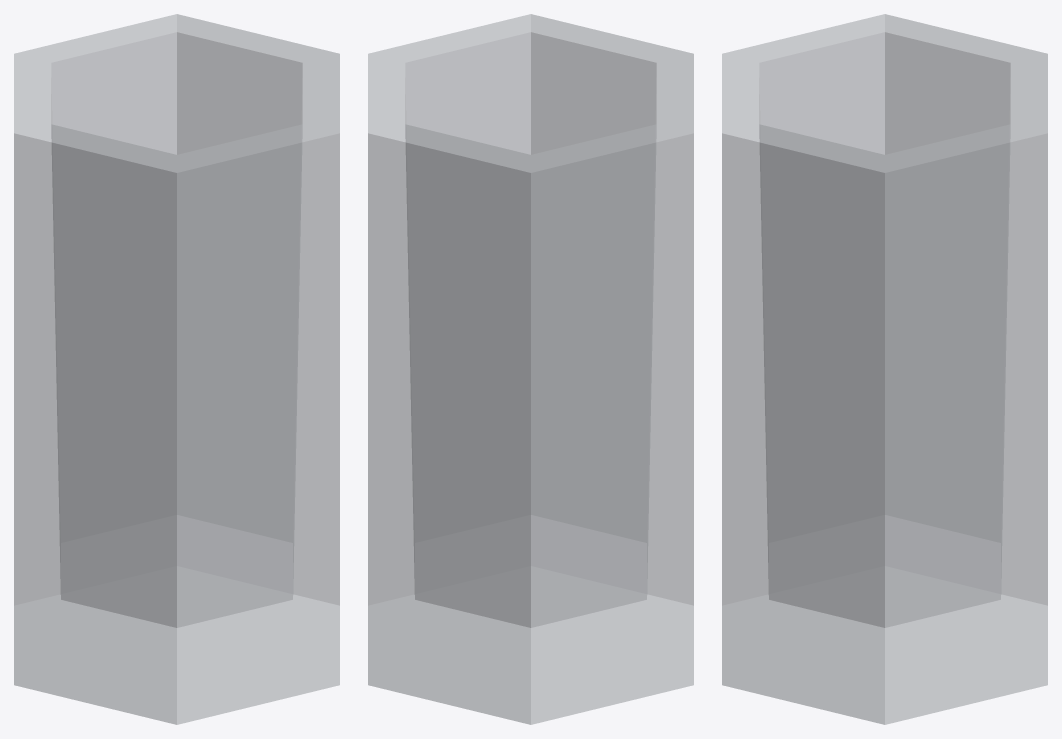
File: SM_Item_GlassCup_01.fbx
3 renders of one model, left to right at view 1: azimuth 30°, elevation 25°; view 2: azimuth 150°, elevation 25°; view 3: azimuth 270°, elevation 25°, orthographic.
Visible parts, largest first — view 1: SM_Item_GlassCup_01; view 2: SM_Item_GlassCup_01; view 3: SM_Item_GlassCup_01.
Part boxes in pixels (x1=…): SM_Item_GlassCup_01: x1=14, y1=14, x2=339, y2=724; SM_Item_GlassCup_01: x1=368, y1=14, x2=693, y2=724; SM_Item_GlassCup_01: x1=722, y1=14, x2=1047, y2=724.
Size of the model in its own units: 11.95 by 19.34 by 10.35.
